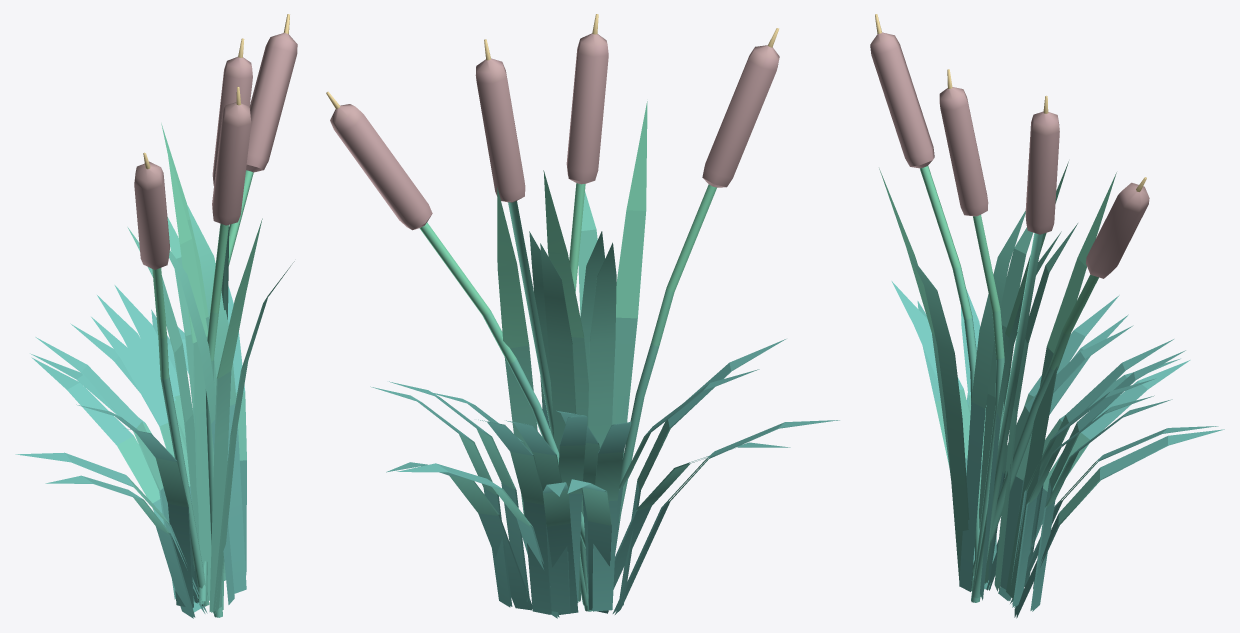
Rendered from bulrush.glb.
3 views of the same model, side by side, from view 1: azimuth 30°, elevation 25°; view 2: azimuth 150°, elevation 25°; view 3: azimuth 270°, elevation 25° (orthographic). The views are drawn at different scales.
Visible parts, largest first — view 1: bulrush.001; view 2: bulrush.001; view 3: bulrush.001.
Boxes of the visible parts, box(x1,y1,x2,y2) form: bulrush.001: box(15, 14, 297, 618); bulrush.001: box(326, 14, 839, 618); bulrush.001: box(870, 14, 1224, 618).
Bounding box in the file's own units: 0.4677 × 0.6666 × 0.4019.
